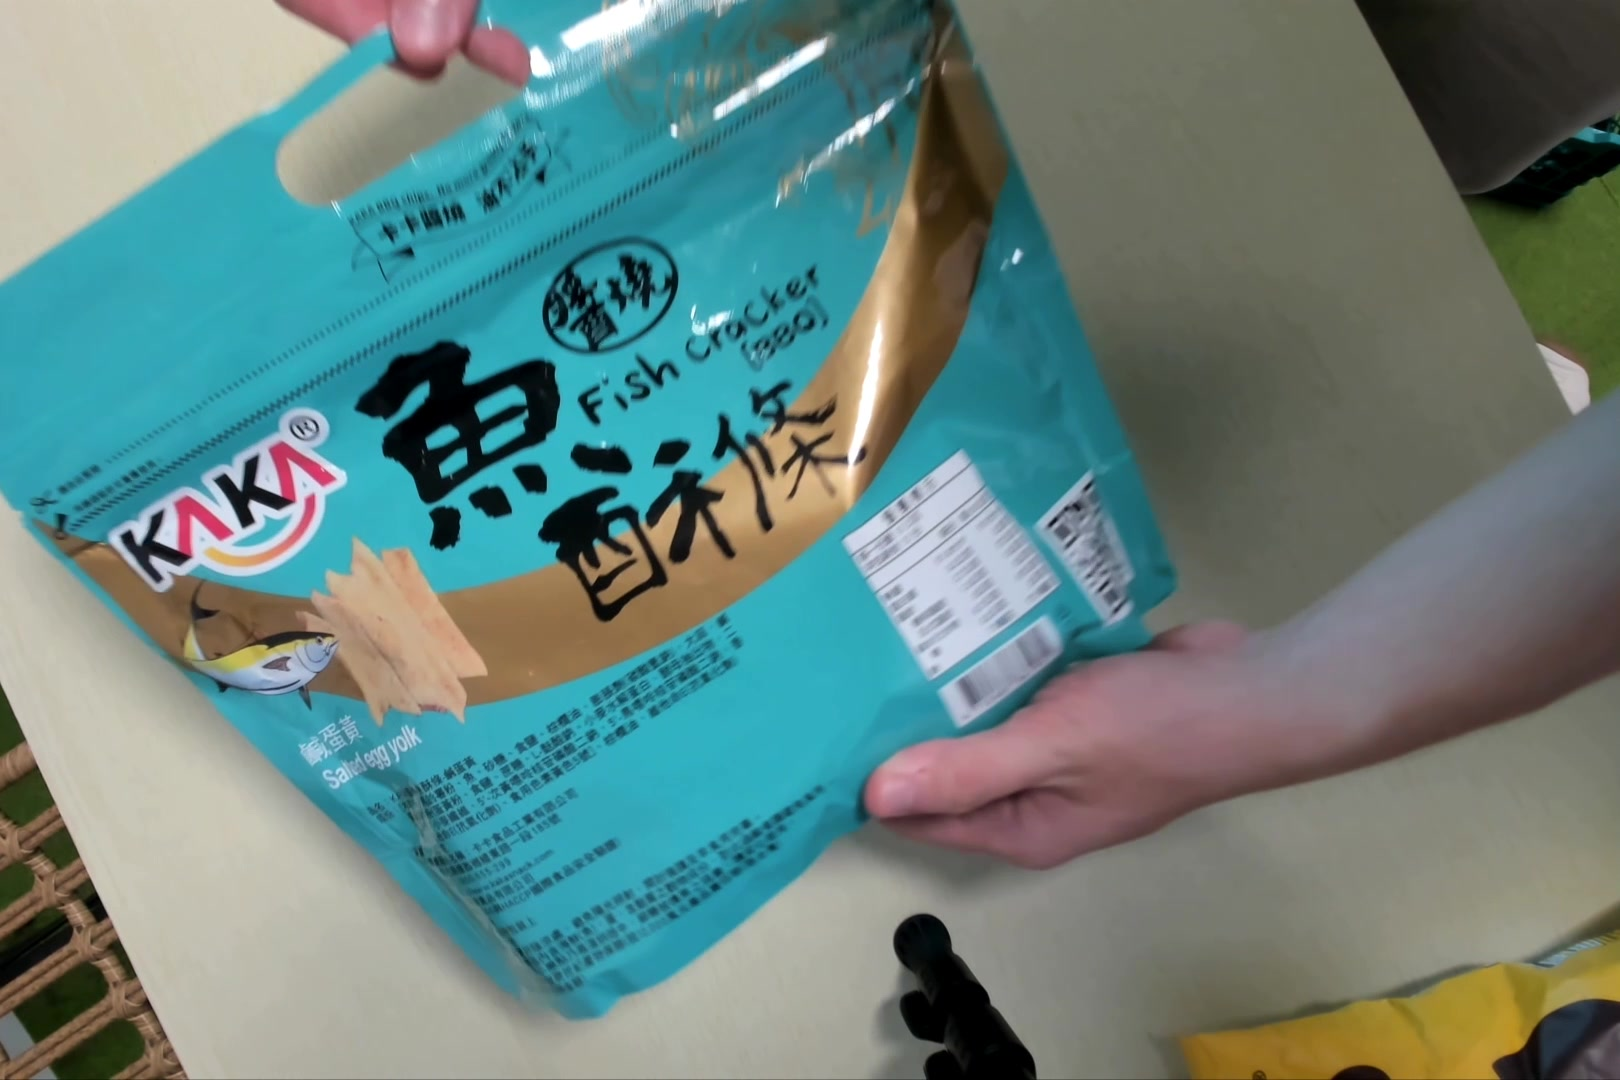PotatoChipsKeropok_100-199g_NonHalal_NonHealthy: (2, 2, 1164, 1019)
